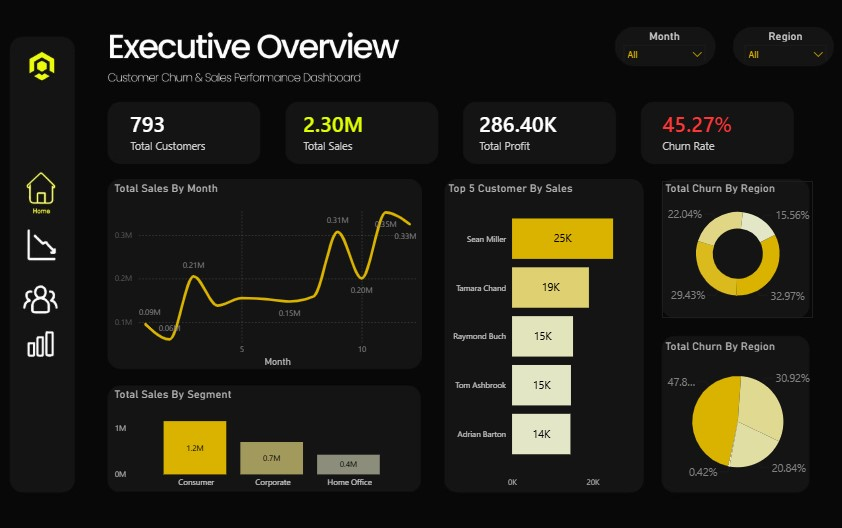

This screenshot's page, from the dashboard's own definition file:
{"tool":"powerbi","page":{"name":"Excecutive Overview","canvas":[1300,800],"ordinal":0},"visuals":[{"type":"cardVisual","title":"Total Customers","fields":{"Data":["Count(FinalChurn_PBI.customer_id)"]},"box":[181.7,145,225,103.3],"z":0},{"type":"cardVisual","fields":{"Data":["Sum(FinalChurn_PBI.sales)"]},"box":[443.3,145,225,103.3],"z":1000},{"type":"cardVisual","fields":{"Data":["Sum(FinalChurn_PBI.profit)"]},"box":[708.3,145,236.7,103.3],"z":2000},{"type":"cardVisual","fields":{"Data":["measure.Churn Rate"]},"box":[983.3,145,225,103.3],"z":3000},{"type":"pageNavigator","box":[36.7,331.7,76.7,73.3],"z":4000},{"type":"lineChart","title":"Total Sales By Month","fields":{"Y":["Sum(FinalChurn_PBI.sales)"],"Category":["FinalChurn_PBI.order_month"]},"box":[181.7,273.3,465,285],"z":5000},{"type":"columnChart","title":"Total Sales By Segment","fields":{"Category":["FinalChurn_PBI.segment"],"Y":["Sum(FinalChurn_PBI.sales)"]},"box":[181.7,583.3,460,161.7],"z":6000},{"type":"slicer","title":"Month","fields":{"Values":["FinalChurn_PBI.order_month"]},"box":[945,43.3,143.3,48.3],"z":7000},{"type":"donutChart","title":"Total Churn By Region","fields":{"Y":["Sum(FinalChurn_PBI.churn)"],"Category":["FinalChurn_PBI.region"]},"box":[1011.7,273.3,228.3,205],"z":8000},{"type":"barChart","title":"Top 5 Customer By Sales","fields":{"Category":["FinalChurn_PBI.customer_name"],"Y":["Sum(FinalChurn_PBI.sales)"]},"box":[685,273.3,298.3,471.7],"z":9000},{"type":"pieChart","title":"Total Churn By Region","fields":{"Category":["FinalChurn_PBI.ship_mode"],"Y":["Avg(FinalChurn_PBI.shipping_days)"]},"box":[1011.7,510,228.3,235],"z":10000},{"type":"slicer","title":"Region","fields":{"Values":["FinalChurn_PBI.region"]},"box":[1126.7,43.3,143.3,48.3],"z":11000},{"type":"pageNavigator","box":[36.7,416.7,76.7,73.3],"z":12000},{"type":"pageNavigator","box":[36.7,485,76.7,73.3],"z":13000}]}

Visuals, with their boxes on the page's 1300x800 design canvas (x1, y1, x2, y2). These are canvas units, not pixel positions in the 842x528 screenshot, which may show the page scaled, cropped or inside an application window:
"Total Customers" cardVisual: box=[182, 145, 407, 248]
cardVisual - Sum(FinalChurn_PBI.sales): box=[443, 145, 668, 248]
cardVisual - Sum(FinalChurn_PBI.profit): box=[708, 145, 945, 248]
cardVisual - measure.Churn Rate: box=[983, 145, 1208, 248]
pageNavigator: box=[37, 332, 113, 405]
"Total Sales By Month" lineChart: box=[182, 273, 647, 558]
"Total Sales By Segment" columnChart: box=[182, 583, 642, 745]
"Month" slicer: box=[945, 43, 1088, 92]
"Total Churn By Region" donutChart: box=[1012, 273, 1240, 478]
"Top 5 Customer By Sales" barChart: box=[685, 273, 983, 745]
"Total Churn By Region" pieChart: box=[1012, 510, 1240, 745]
"Region" slicer: box=[1127, 43, 1270, 92]
pageNavigator: box=[37, 417, 113, 490]
pageNavigator: box=[37, 485, 113, 558]
